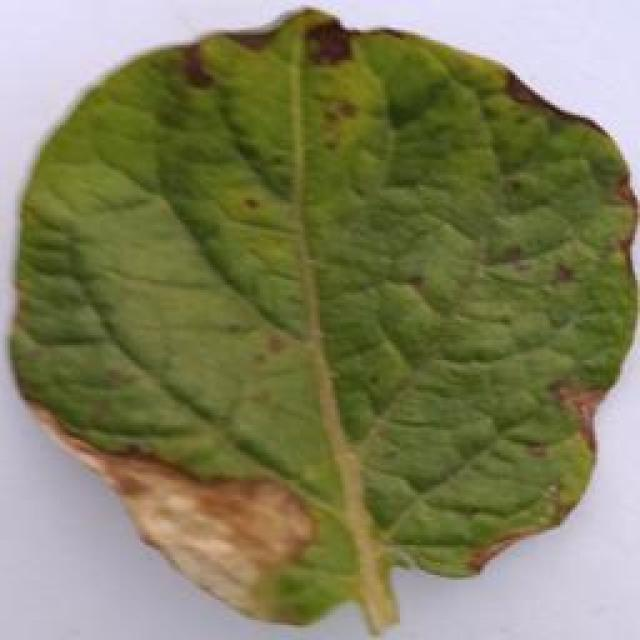Potato_Late_Blight: (10, 7, 628, 634)
